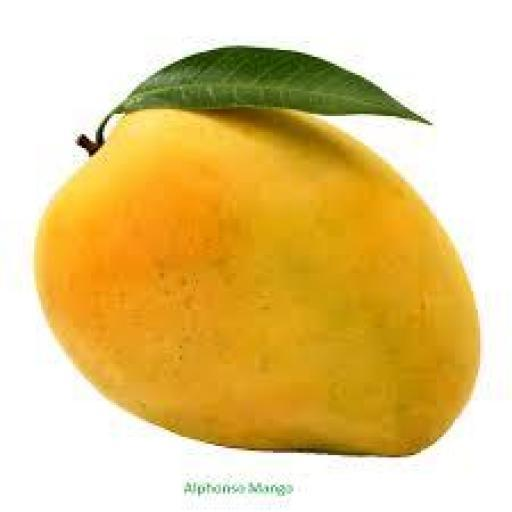mango: (37, 110, 477, 455)
